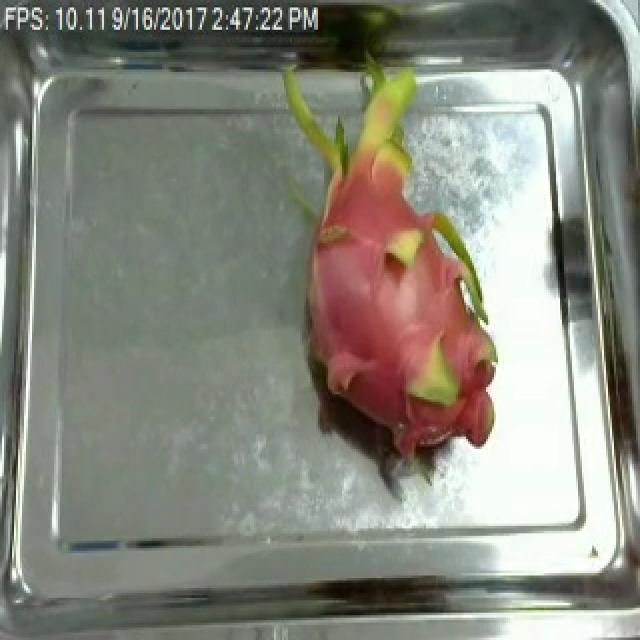fruit: (276, 42, 522, 469)
